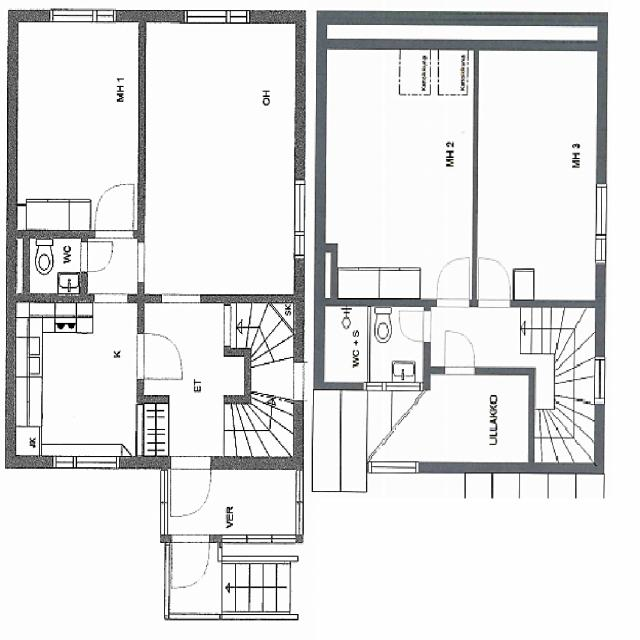door: (171, 457, 210, 518), (138, 332, 184, 378), (95, 184, 133, 239), (172, 533, 210, 587), (478, 255, 511, 302), (436, 255, 468, 303), (445, 329, 474, 373), (397, 310, 430, 340), (80, 243, 111, 271)
